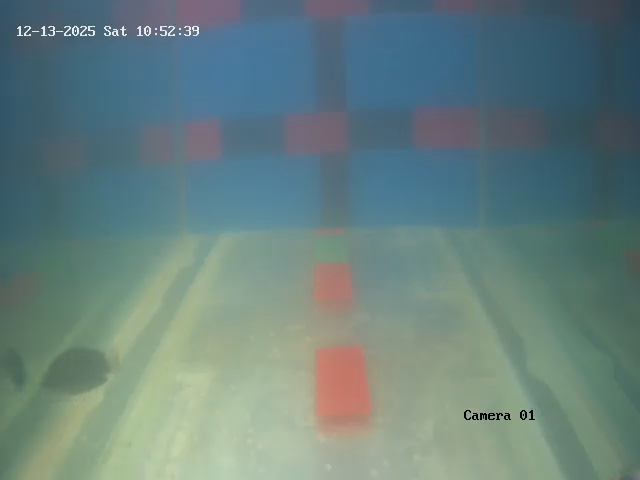fish: (38, 329, 117, 414)
